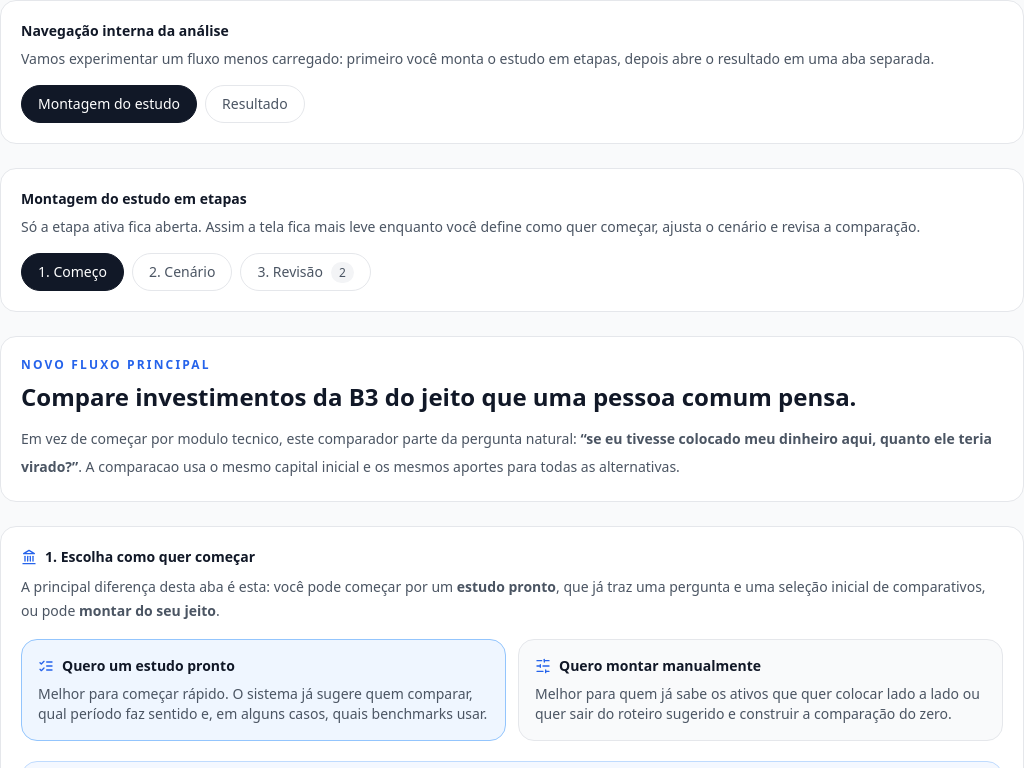
Scenario: InvestmentsWorkspace › shows the results on a separate internal tab
The image size is (1024, 768).
Click the button "Resultado" at point(255, 104), box [205,85,305,123]
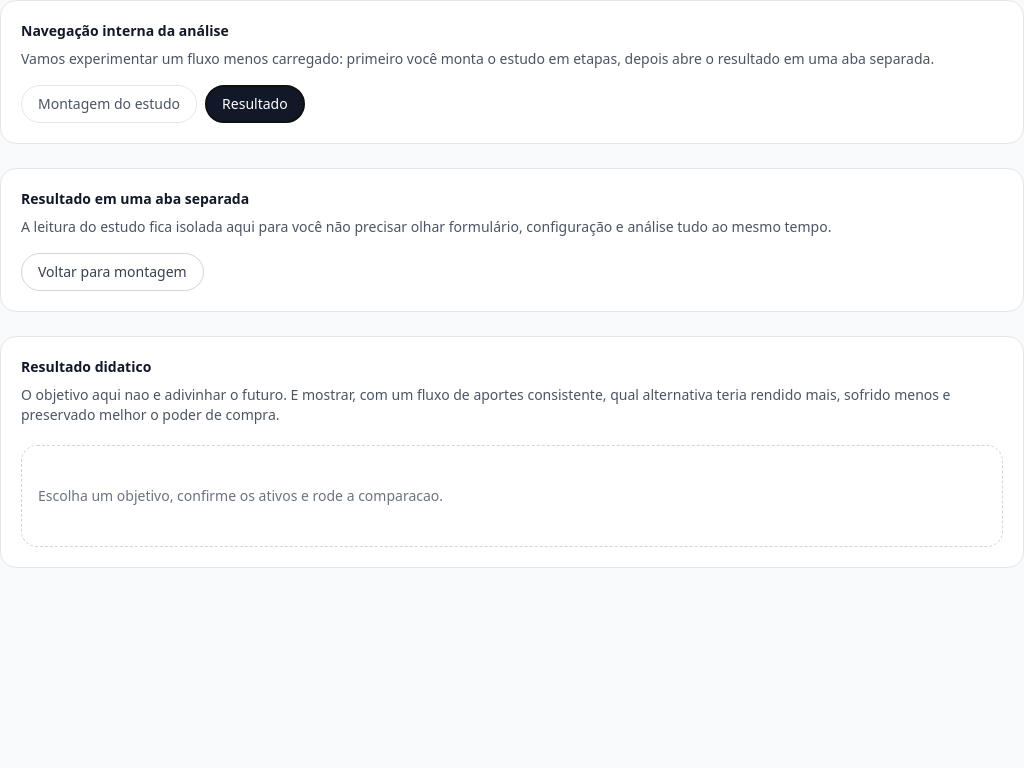
Now the text "Resultado em uma aba separada" is shown, box [21,189,249,208]
Now the text "1. Escolha como quer começar" is gone
Now the text "Escolha um objetivo, confirme os ativos e rode a comparacao." is shown, box [21,445,1003,547]
